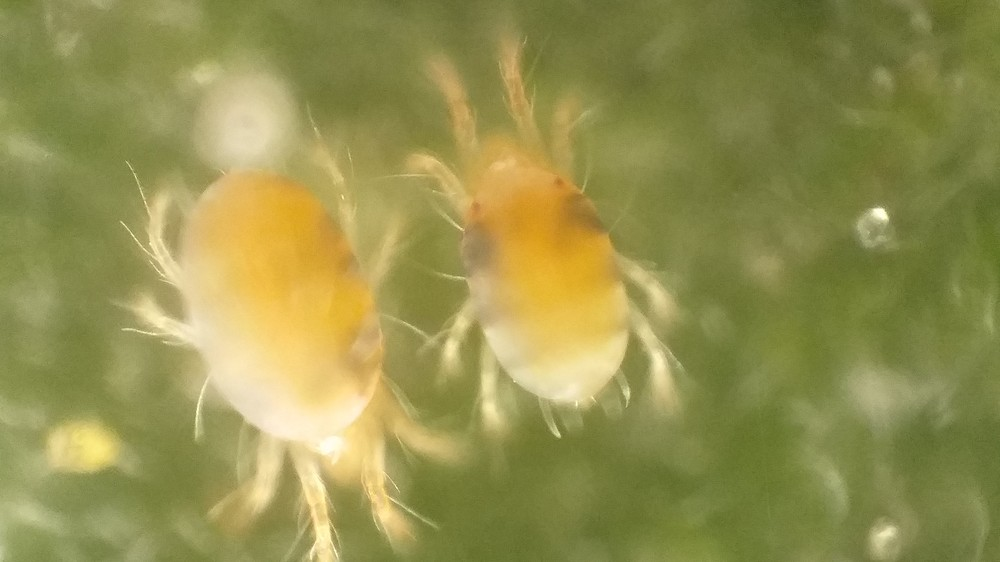Aracnido Rojo: (113, 135, 448, 558), (398, 40, 690, 480)
